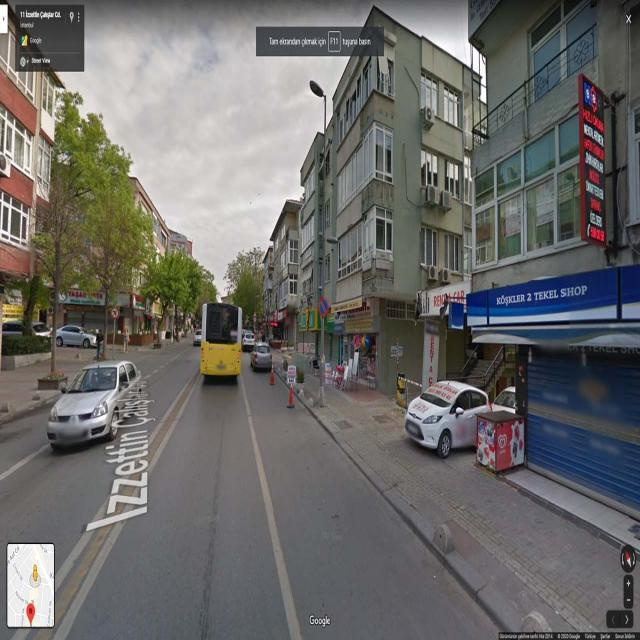parkyasak: (317, 295, 328, 317)
